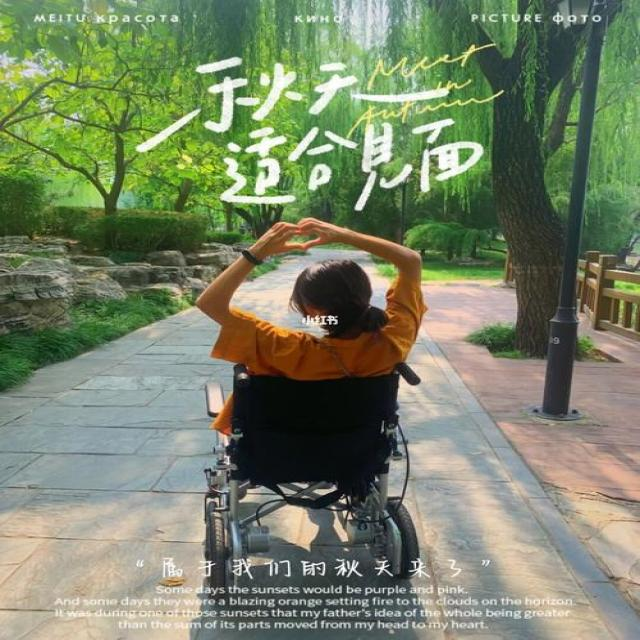wheelchairs: (170, 338, 437, 556)
